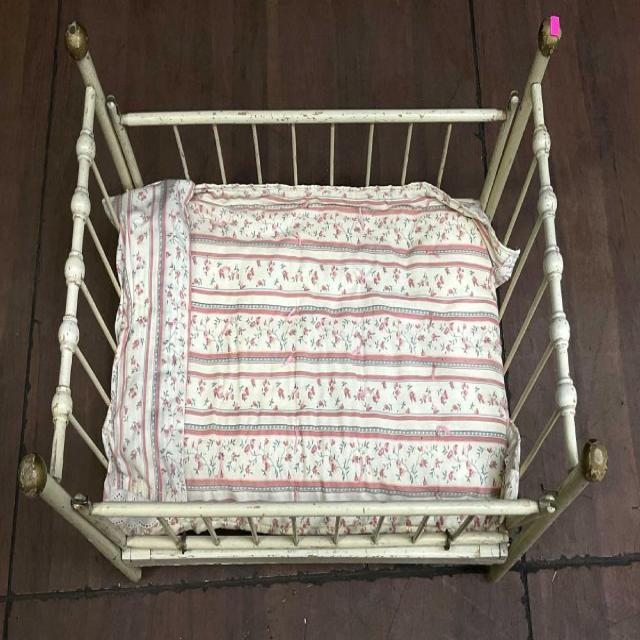crib: (18, 10, 607, 582)
